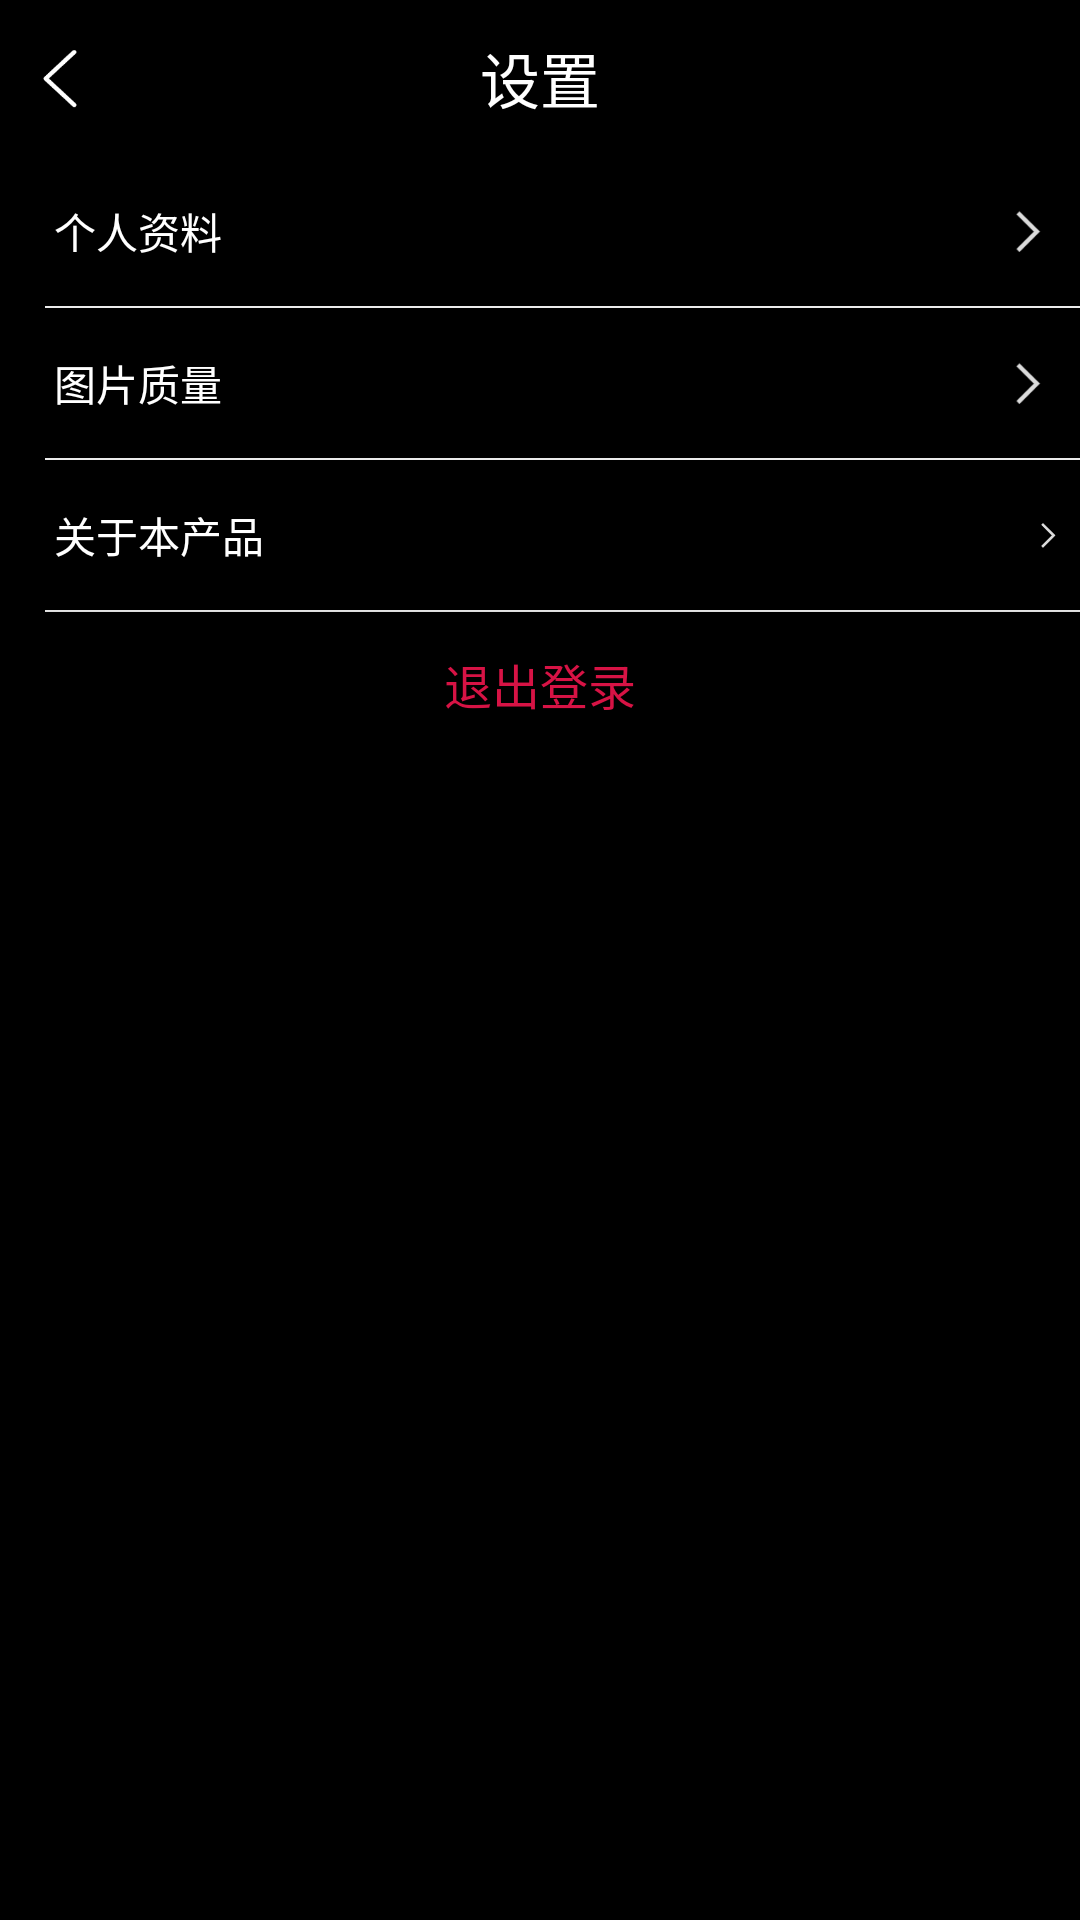

Icon click points for this 1080x1920 phone screenshot, format point (x, y):
back: point (60, 79)
right: point (1028, 231), point (1028, 383), point (1048, 535)
